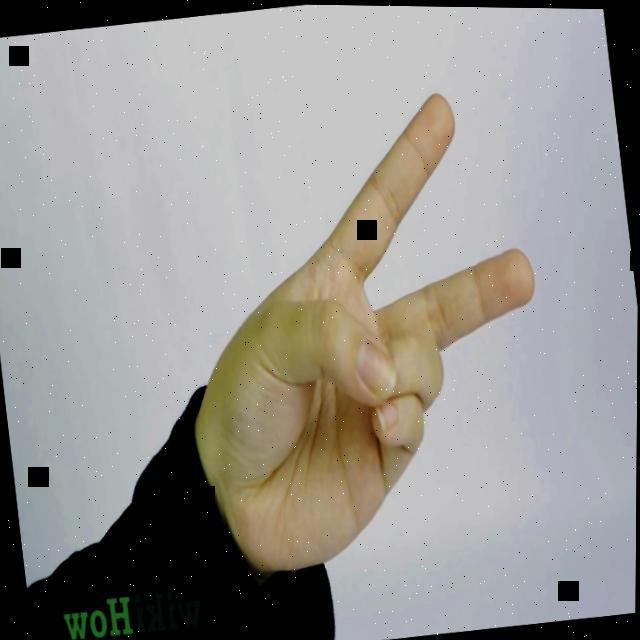Scissors: (163, 79, 571, 587)
